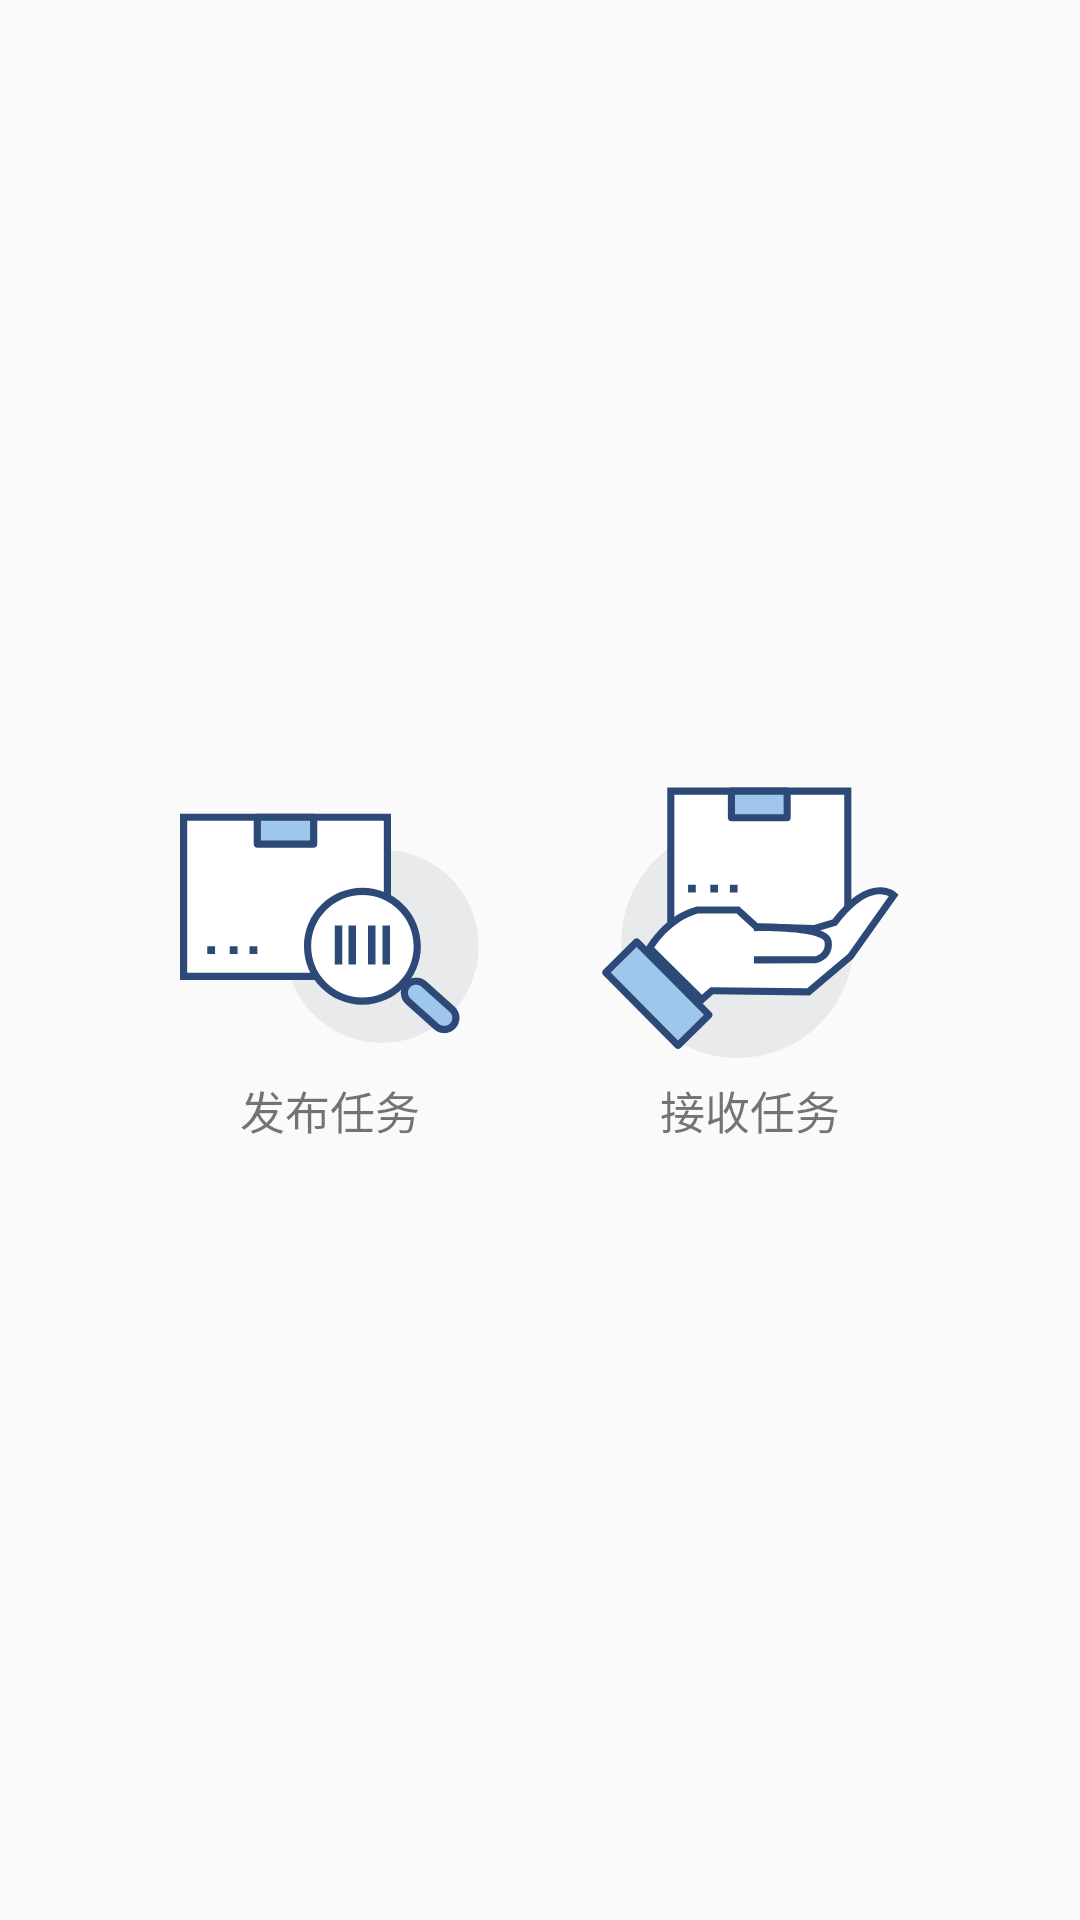

Named icons in this screenshot (1080px x 1920px) and their bounding boxes, (x1, y1, x2, y2):
kuaidi: (180, 813, 460, 1034)
kuaidi yuan: (602, 787, 899, 1049)
